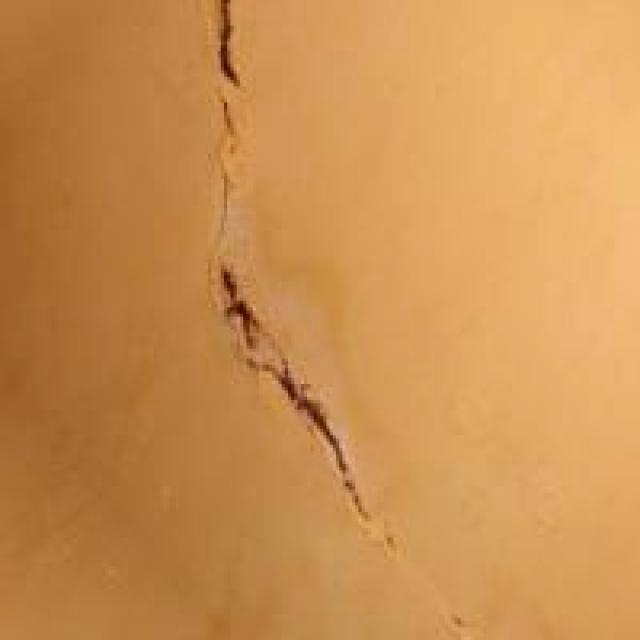crack: (186, 0, 396, 568)
